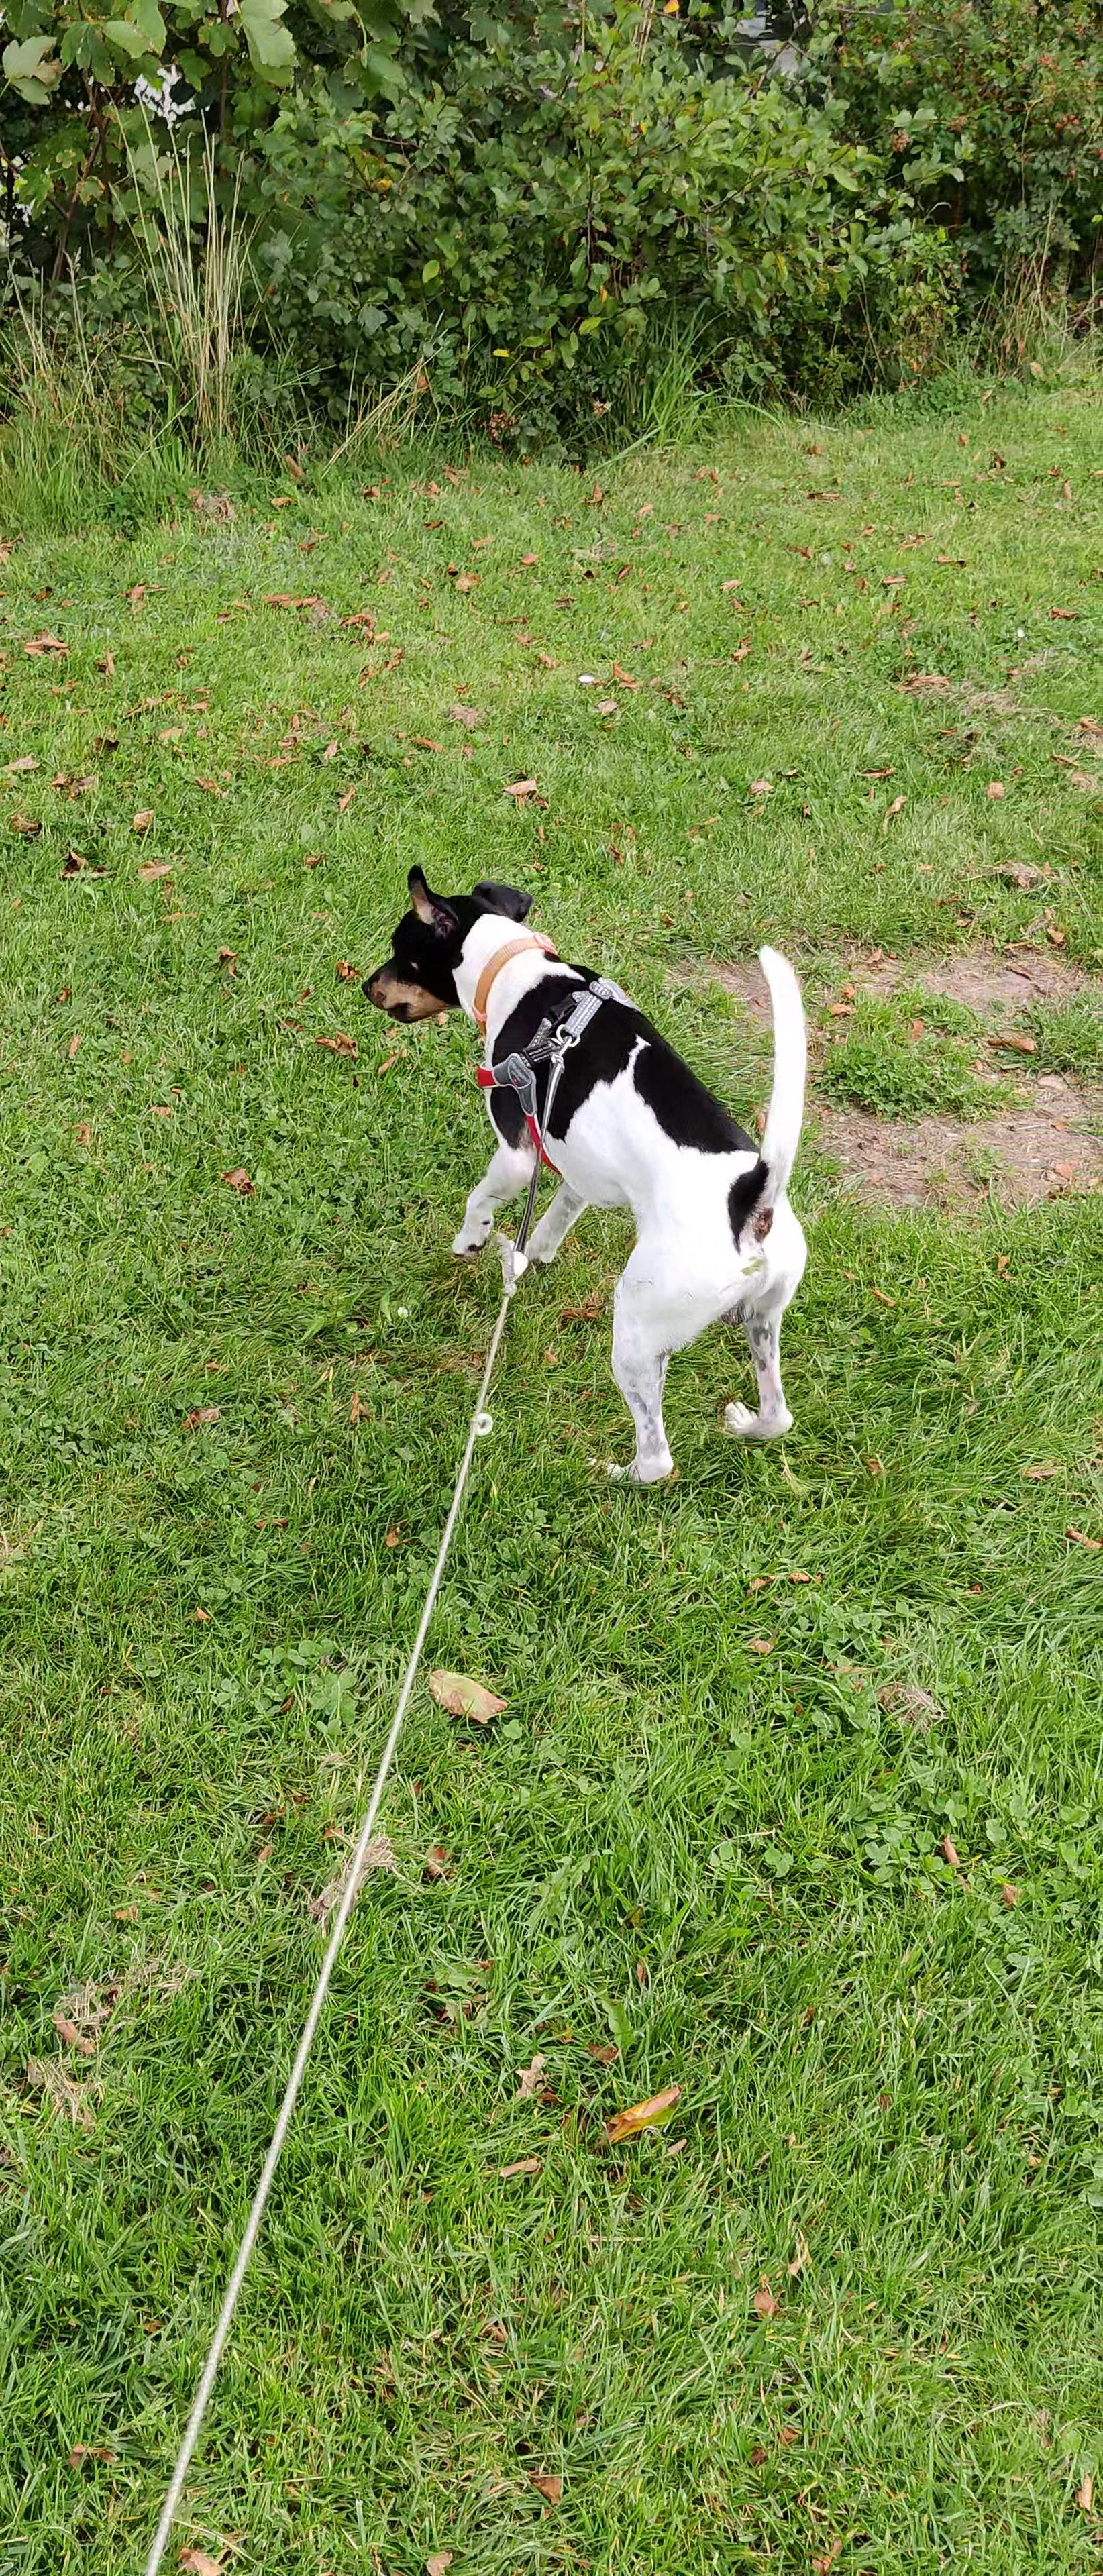Dog: (339, 853, 838, 1503)
